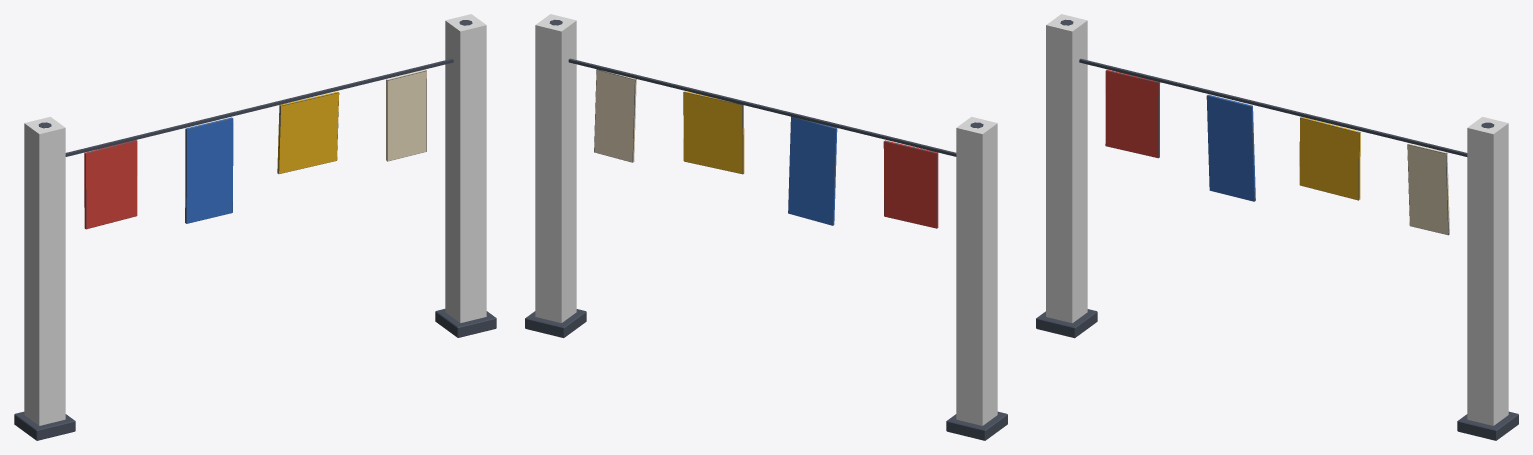
Rendered from prop_clothesline_a.glb.
The picture shows the model from 3 angles, left to right: view 1: azimuth 30°, elevation 25°; view 2: azimuth 150°, elevation 25°; view 3: azimuth 330°, elevation 25°; orthographic projection.
Parts seen in each view (by area): view 1: prop_clothesline_a, COL_prop_clothesline_a_1, COL_prop_clothesline_a_2; view 2: prop_clothesline_a, COL_prop_clothesline_a_1, COL_prop_clothesline_a_2; view 3: prop_clothesline_a, COL_prop_clothesline_a_2, COL_prop_clothesline_a_1.
Boxes of the visible parts, x1=… form: prop_clothesline_a: x1=14, y1=20, x2=496, y2=440; COL_prop_clothesline_a_1: x1=24, y1=116, x2=65, y2=425; COL_prop_clothesline_a_2: x1=445, y1=14, x2=486, y2=322; prop_clothesline_a: x1=525, y1=19, x2=1007, y2=440; COL_prop_clothesline_a_1: x1=956, y1=116, x2=997, y2=425; COL_prop_clothesline_a_2: x1=535, y1=14, x2=576, y2=322; prop_clothesline_a: x1=1036, y1=19, x2=1518, y2=440; COL_prop_clothesline_a_2: x1=1467, y1=117, x2=1508, y2=425; COL_prop_clothesline_a_1: x1=1046, y1=14, x2=1087, y2=323.
Bounding box in the file's own units: 3.5 × 2.2 × 0.3012.
